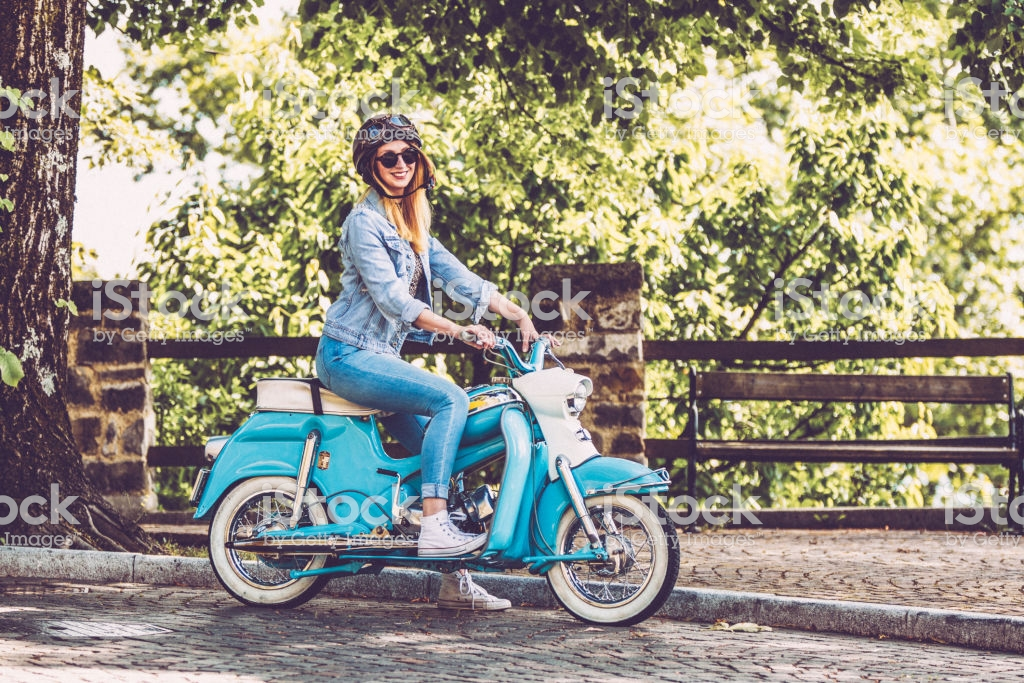helmet: (349, 106, 421, 169)
